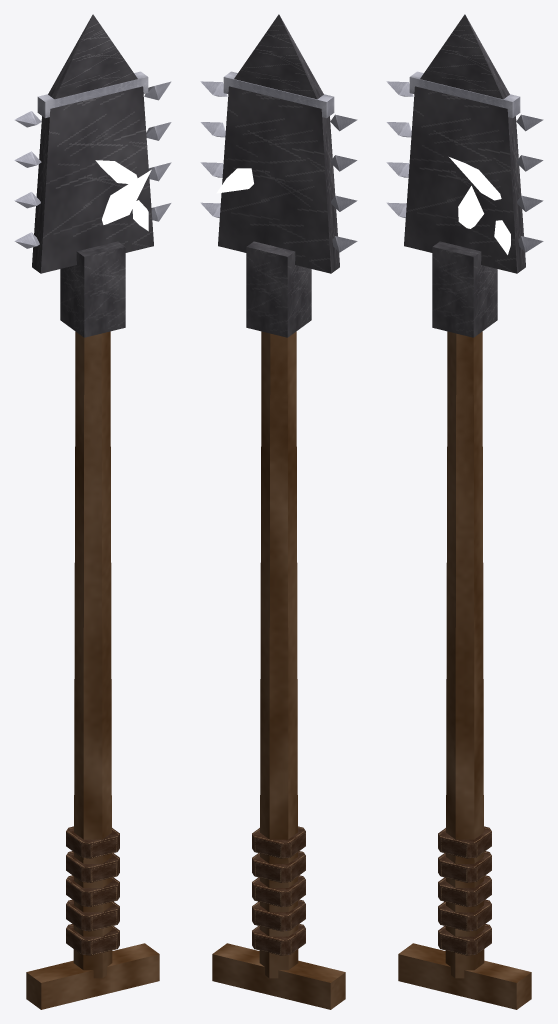
The model's file is Spade.fbx.
3 renders of one model, left to right at view 1: azimuth 30°, elevation 25°; view 2: azimuth 150°, elevation 25°; view 3: azimuth 330°, elevation 25°, orthographic.
Parts seen in each view (by area): view 1: Handle, Head, Glow; view 2: Handle, Head, Glow; view 3: Handle, Head, Glow.
Boxes of the visible parts, bbox=[...] form: Handle: bbox=[26, 331, 159, 1009]; Head: bbox=[14, 14, 171, 337]; Glow: bbox=[95, 160, 151, 231]; Handle: bbox=[212, 331, 345, 1009]; Head: bbox=[200, 14, 357, 337]; Glow: bbox=[216, 168, 253, 193]; Handle: bbox=[398, 331, 531, 1009]; Head: bbox=[386, 14, 543, 337]; Glow: bbox=[449, 157, 510, 254].
Size of the model in its own units: 61.16 by 362 by 25.58.
2 materials, 1 textured.
